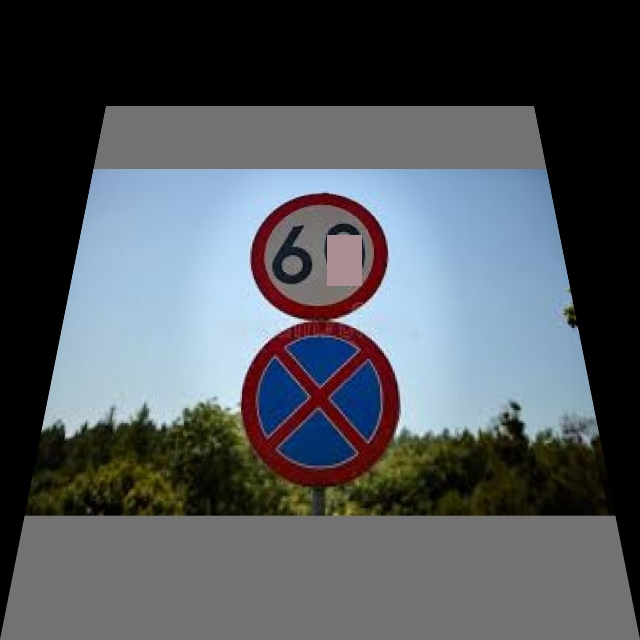Speed_Limit_60: (250, 193, 389, 320)
